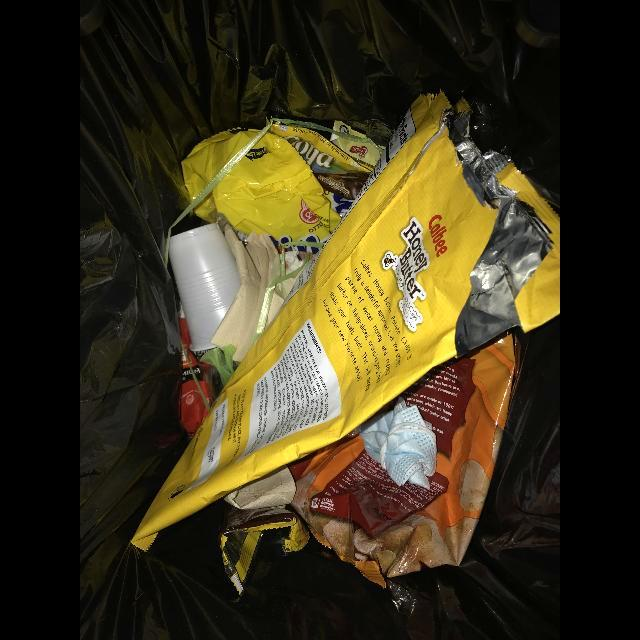food_wrapper: (130, 93, 560, 553), (285, 333, 520, 590), (180, 124, 341, 248), (267, 120, 375, 200), (218, 504, 310, 597), (178, 316, 215, 437)
paper: (210, 225, 281, 363), (224, 465, 296, 510)
plastic_container: (169, 223, 241, 352)
